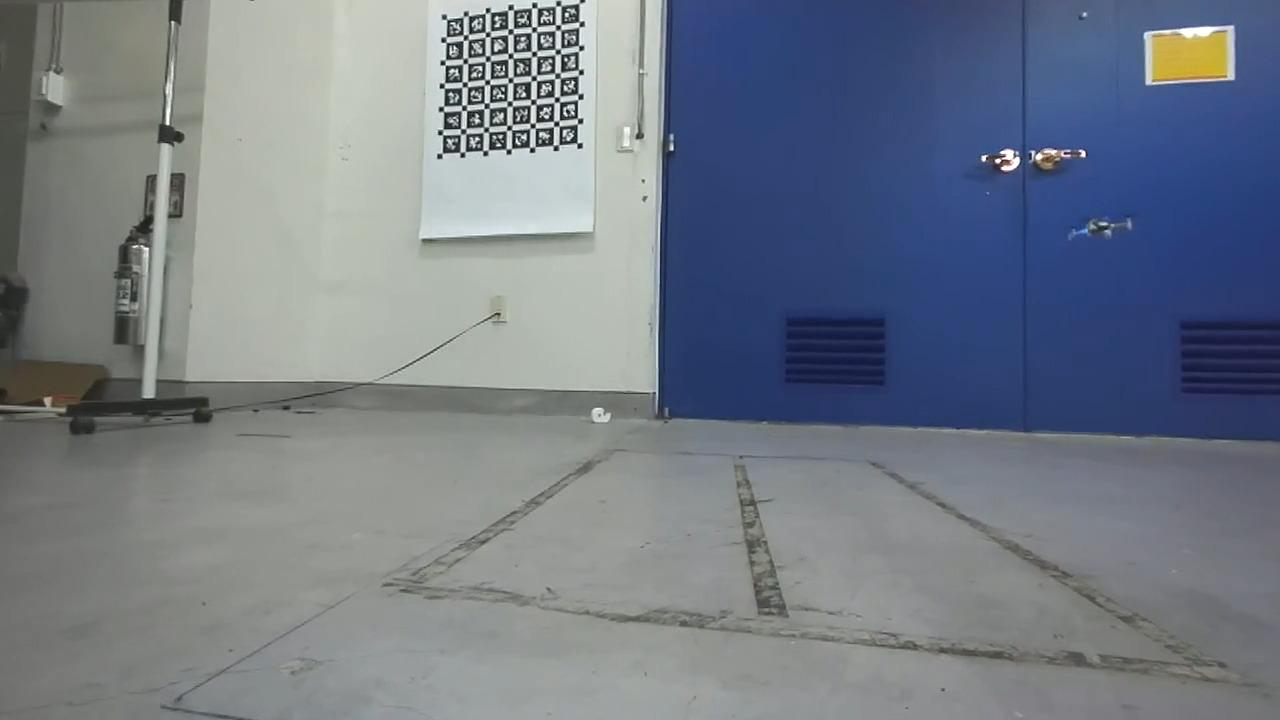crazyflie: (1058, 212, 1137, 245)
